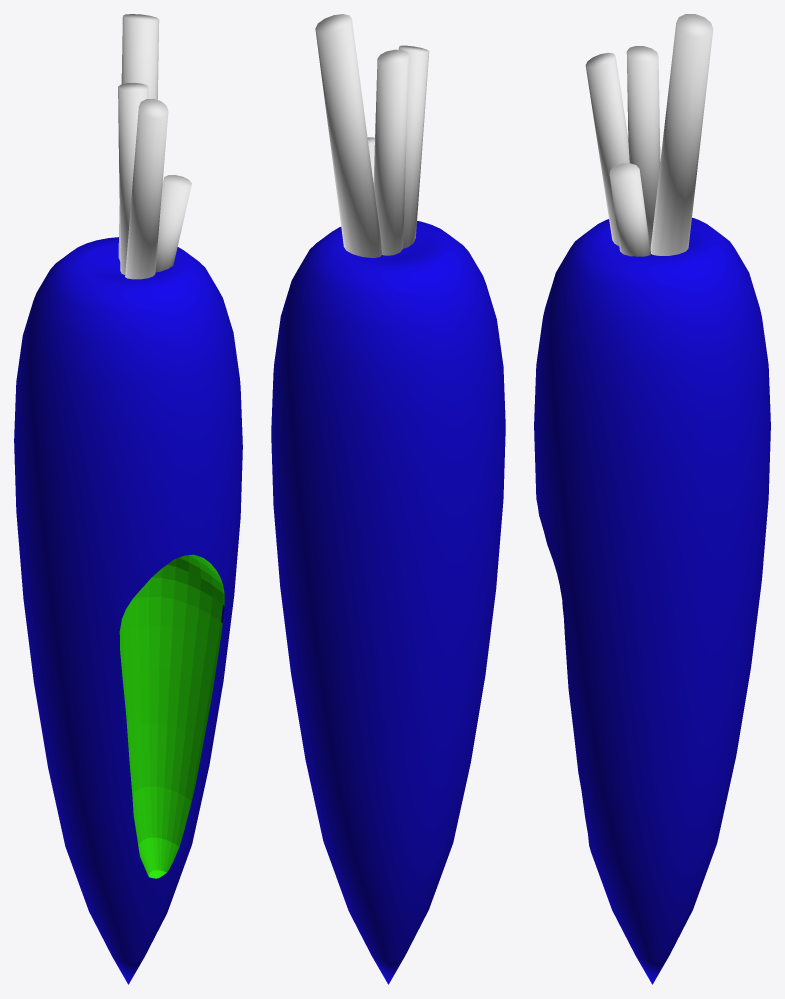
File: CarttorHusband.fbx
3 views of the same model, side by side, from view 1: azimuth 30°, elevation 25°; view 2: azimuth 150°, elevation 25°; view 3: azimuth 270°, elevation 25° (orthographic). The views are drawn at different scales.
Parts seen in each view (by area): view 1: Sphere, Cylinder.001, Cylinder.002, Cylinder.003, Cylinder.004; view 2: Sphere, Cylinder.003, Cylinder.002, Cylinder.001; view 3: Sphere, Cylinder.003, Cylinder.002, Cylinder.001, Cylinder.004.
Part boxes in pixels (<box>): Sphere: <box>14,237,242,984</box>; Cylinder.001: <box>125,98,168,279</box>; Cylinder.002: <box>118,82,148,274</box>; Cylinder.003: <box>118,14,159,261</box>; Cylinder.004: <box>155,175,191,272</box>; Sphere: <box>271,221,505,984</box>; Cylinder.003: <box>315,14,382,257</box>; Cylinder.002: <box>373,49,408,255</box>; Cylinder.001: <box>398,45,429,248</box>; Sphere: <box>534,217,770,984</box>; Cylinder.003: <box>650,14,713,255</box>; Cylinder.002: <box>626,46,660,248</box>; Cylinder.001: <box>585,52,629,245</box>; Cylinder.004: <box>609,163,650,256</box>.
Size of the model in its own units: 200 by 913 by 200.
